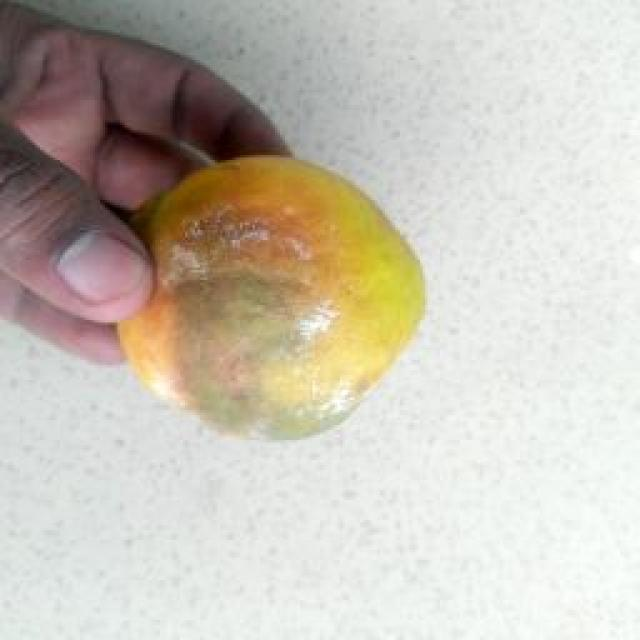Bad_Orange: (119, 158, 424, 438)
